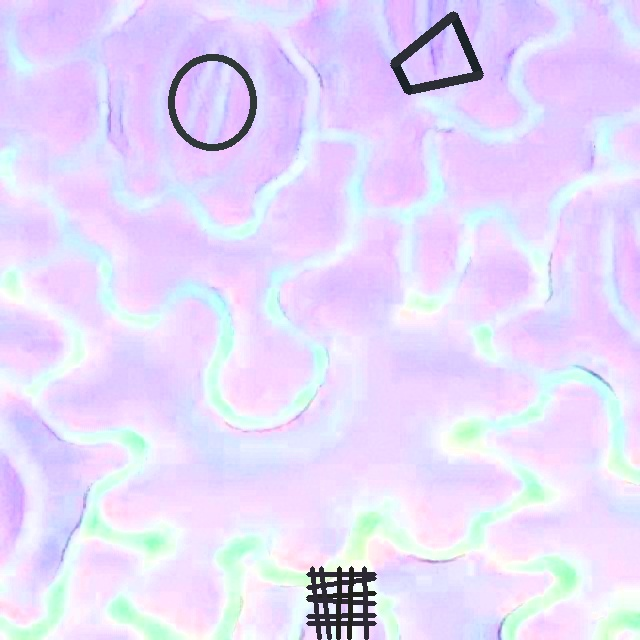open: (169, 53, 256, 150), (390, 11, 483, 94), (306, 566, 376, 639)
